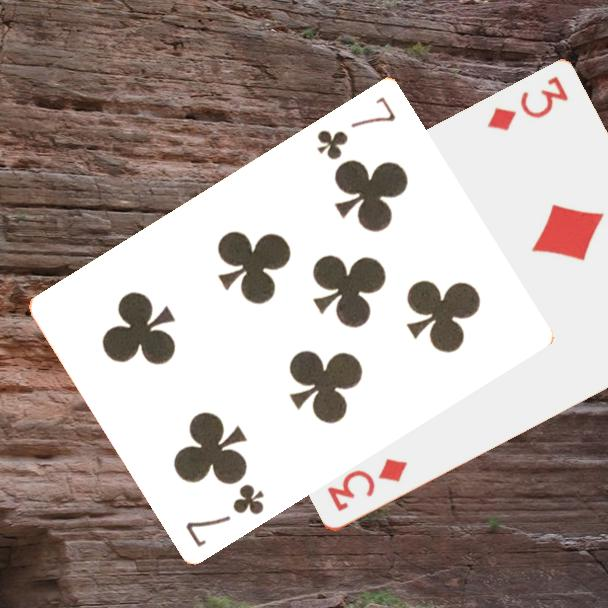c07: (313, 92, 399, 163), (182, 479, 268, 550)
d03: (483, 73, 571, 135), (323, 455, 411, 515)
